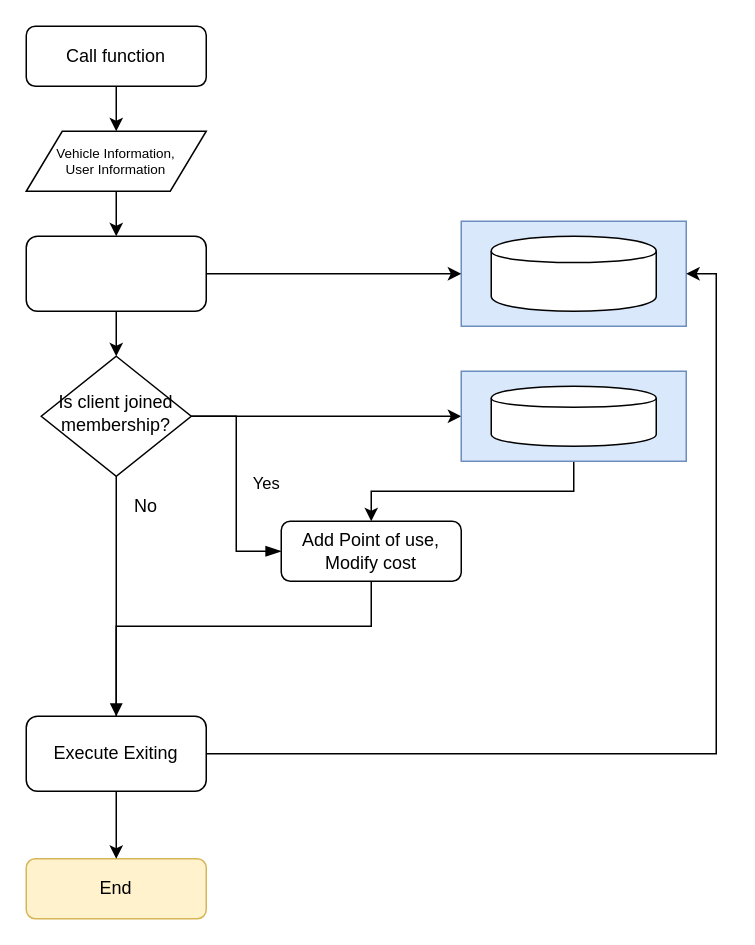
Image size: 755x945. Some labels were removed from this diagram. The box of each missing label's shape, as (x1, y1, x2, y2) in pixels:
Estimate cost, hours: (25, 235, 206, 311)
Membership: (490, 385, 656, 446)
T_ENTRY_BOOK: (490, 235, 656, 311)
